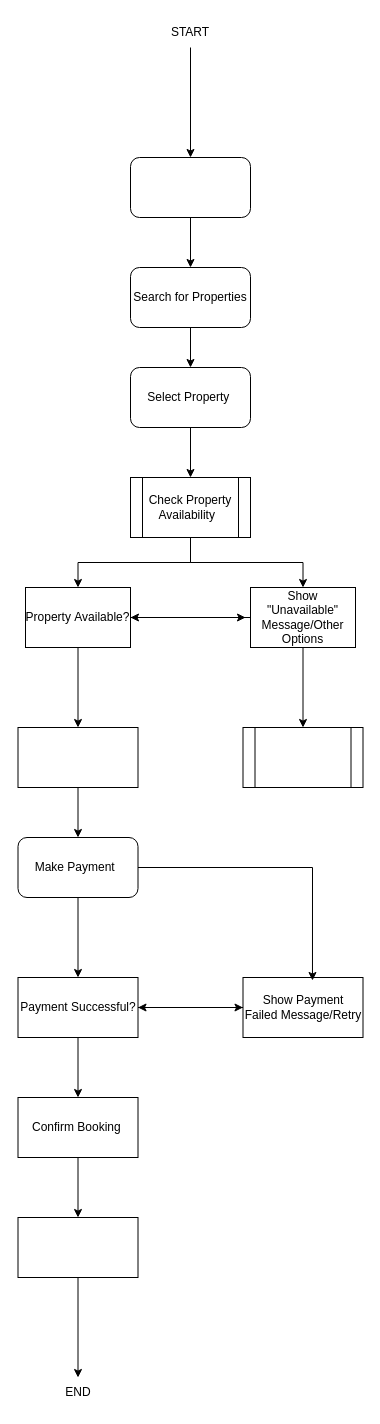
The diagram is 380 pixels wide and 1424 high, and some of its shapes have lost their labels. The box of each missing label's shape, as (x1, y1, x2, y2) in pixels:
End Process: (242, 726, 363, 788)
Enter Booking Info: (17, 726, 138, 788)
Store Booking Info: (17, 1216, 138, 1278)
User Login/Registration: (130, 156, 250, 218)
